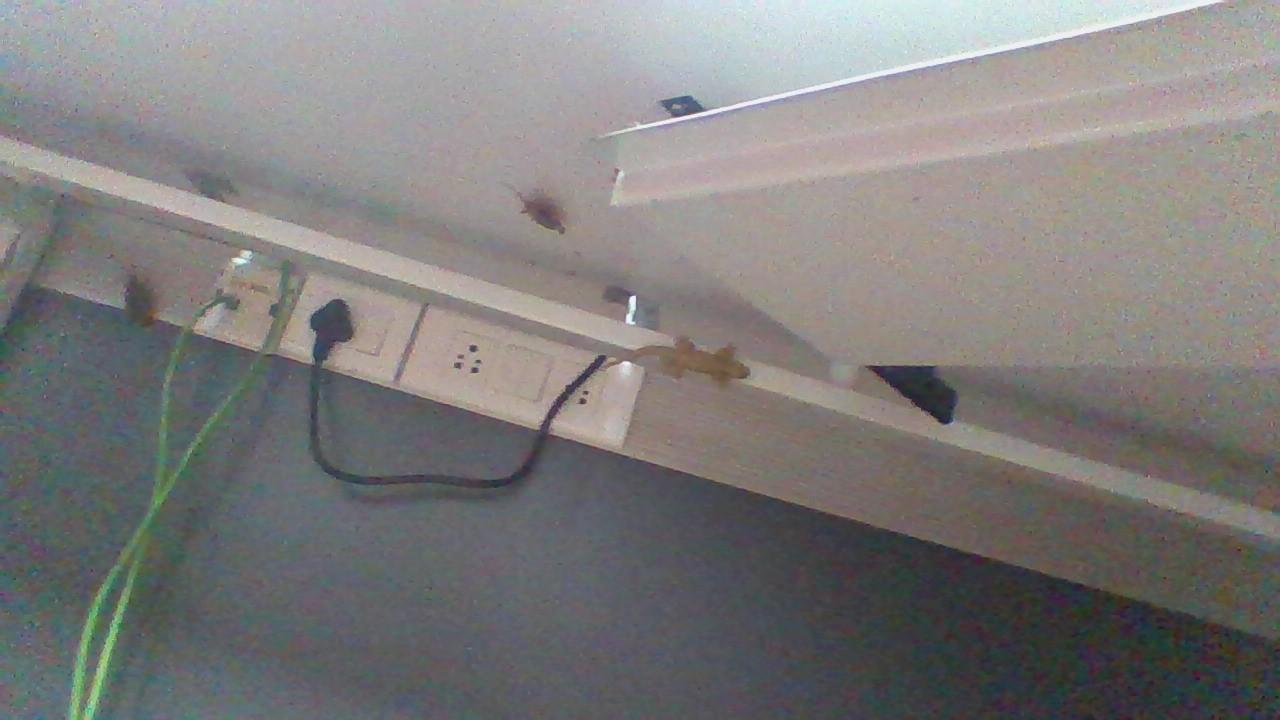cockroach: (117, 255, 167, 329), (507, 187, 569, 234)
lizard: (596, 336, 755, 396)
